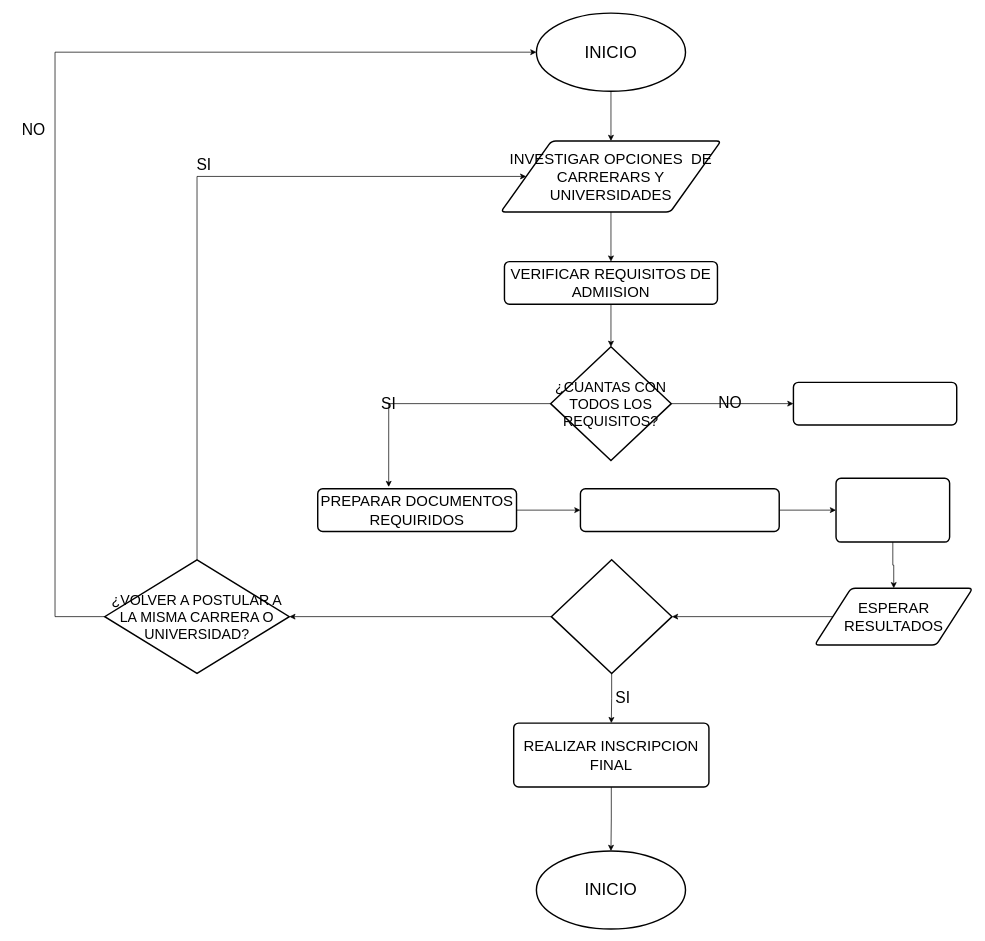
This 985x941 diagram has some shape labels left out. Each missing label, with the centre of its shape:
REALIZAR INSCRIPCION Y PAGAR: point (679, 510)
RENDIR EXAMEN DE ADMISION: point (892, 509)
REUNIR REQUISITOS FALTANTES: point (874, 403)
¿OBTUVISTES VACANTE?: point (611, 616)
